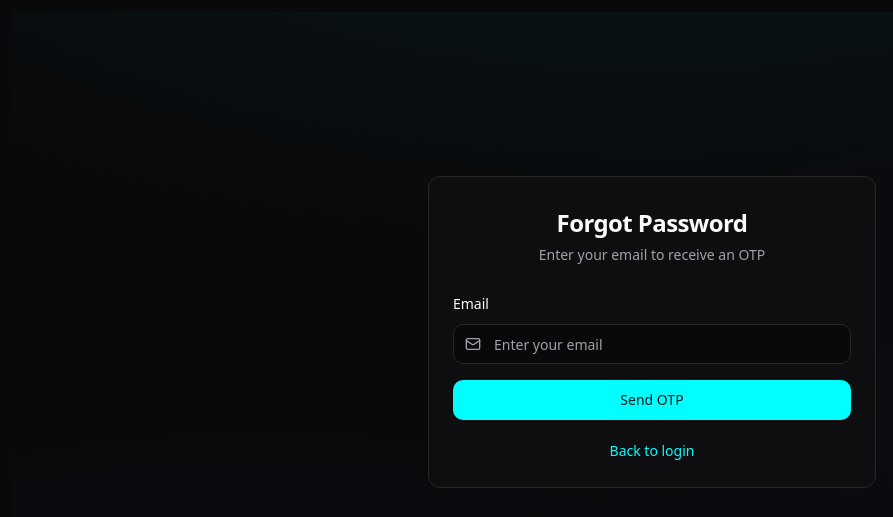
Test: ForgotPassword › sends the resetToken from the OTP step with the new password
Type "buyer@example.com" into the field labelled "Email" at (652, 344), box 453,324 -> 851,364
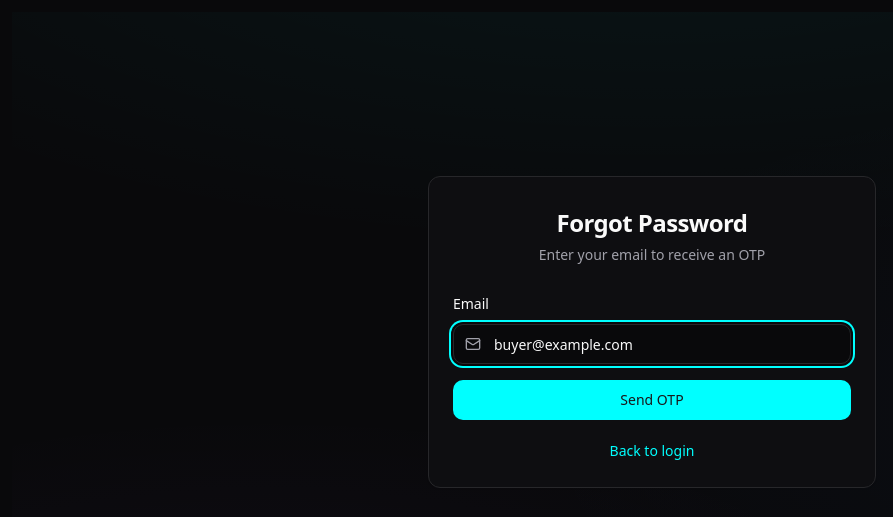
Click the button "Send OTP" at (652, 400), box 453,380 -> 851,420
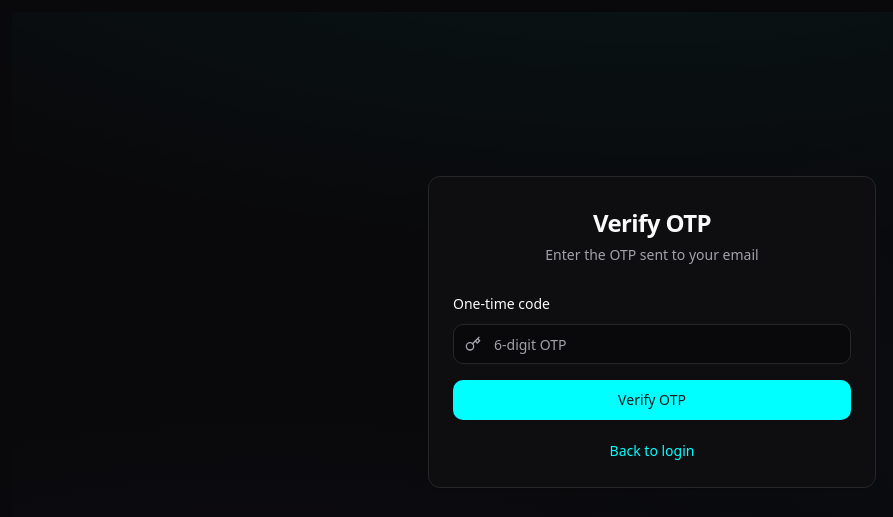
Type "123456" into the field labelled "One-time code" at (652, 344), box 453,324 -> 851,364
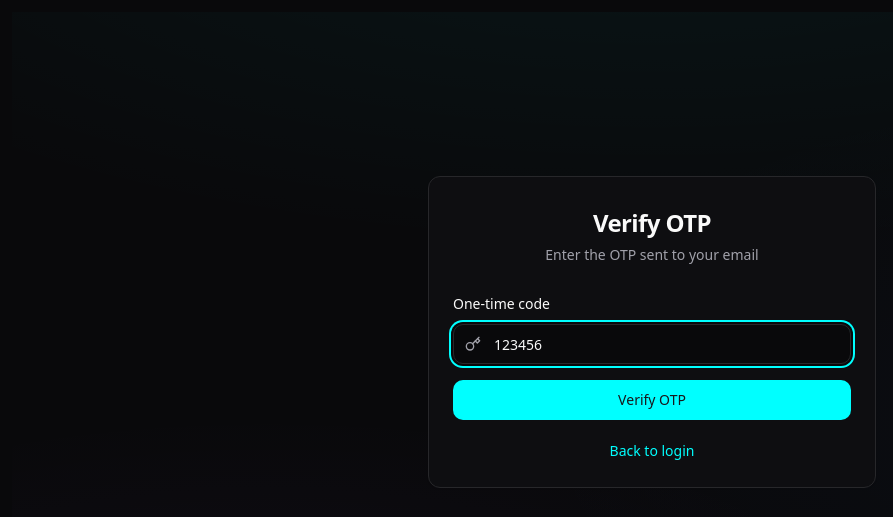
Click the button "Verify OTP" at (652, 400), box 453,380 -> 851,420
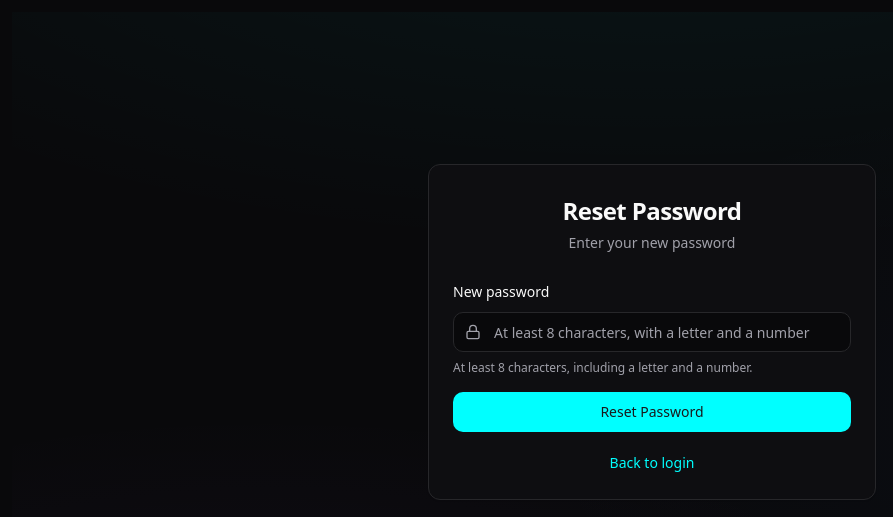
Type "SecurePass1" into the password field labelled "New password" at (652, 332), box 453,312 -> 851,352
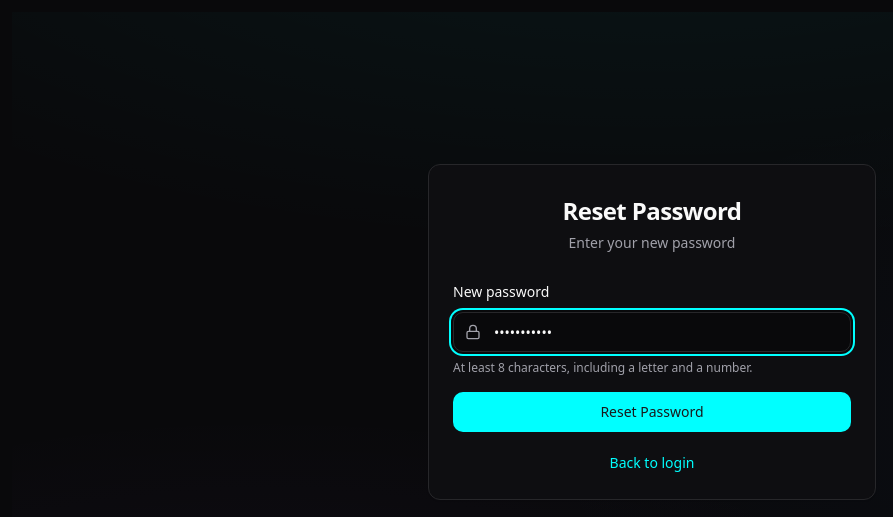
Click the button "Reset Password" at (652, 412), box 453,392 -> 851,432
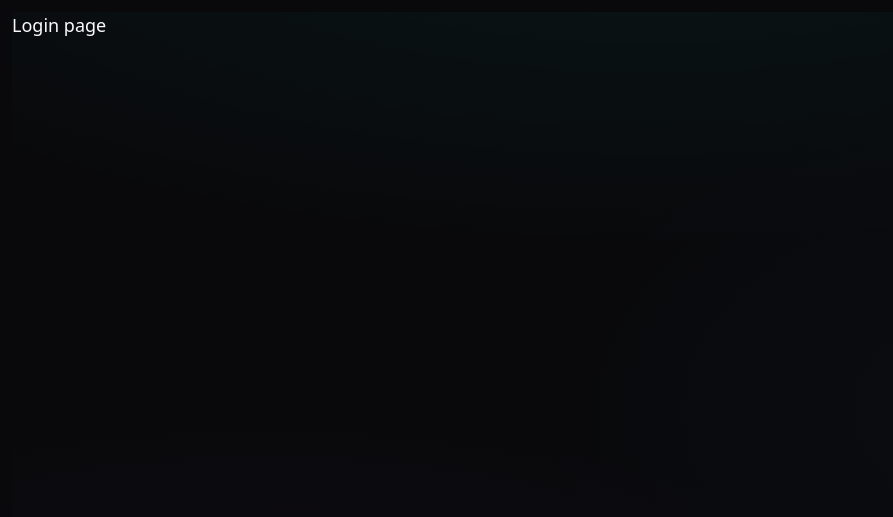
Expected: the text "Login page" is shown, 12,13 -> 106,37
